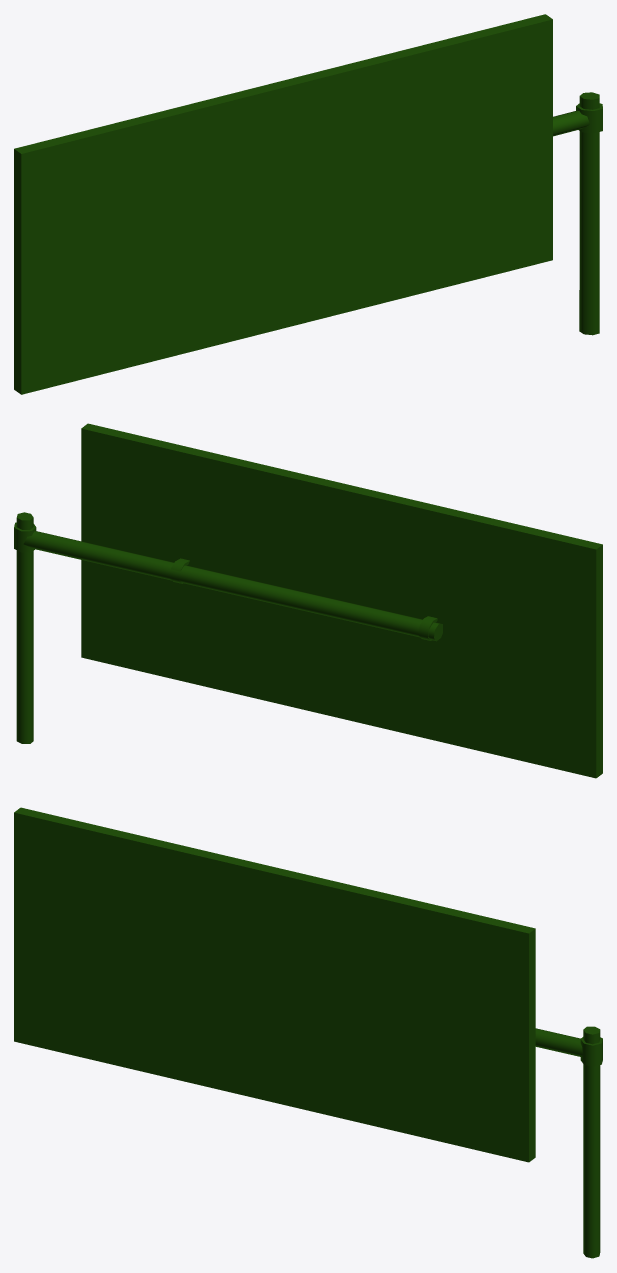
Rendered from T2_SpeedSigns4R.fbx.
The picture shows the model from 3 angles, top to bottom: view 1: azimuth 30°, elevation 25°; view 2: azimuth 150°, elevation 25°; view 3: azimuth 330°, elevation 25°; orthographic projection. The views are drawn at different scales.
Visible parts, largest first — view 1: T2_SpeedSigns4R; view 2: T2_SpeedSigns4R; view 3: T2_SpeedSigns4R.
Boxes of the visible parts, <box> form: T2_SpeedSigns4R: <box>14,14,602,394</box>; T2_SpeedSigns4R: <box>14,423,602,778</box>; T2_SpeedSigns4R: <box>14,807,602,1258</box>.
Size of the model in its own units: 0.9155 by 0.489 by 0.069.
